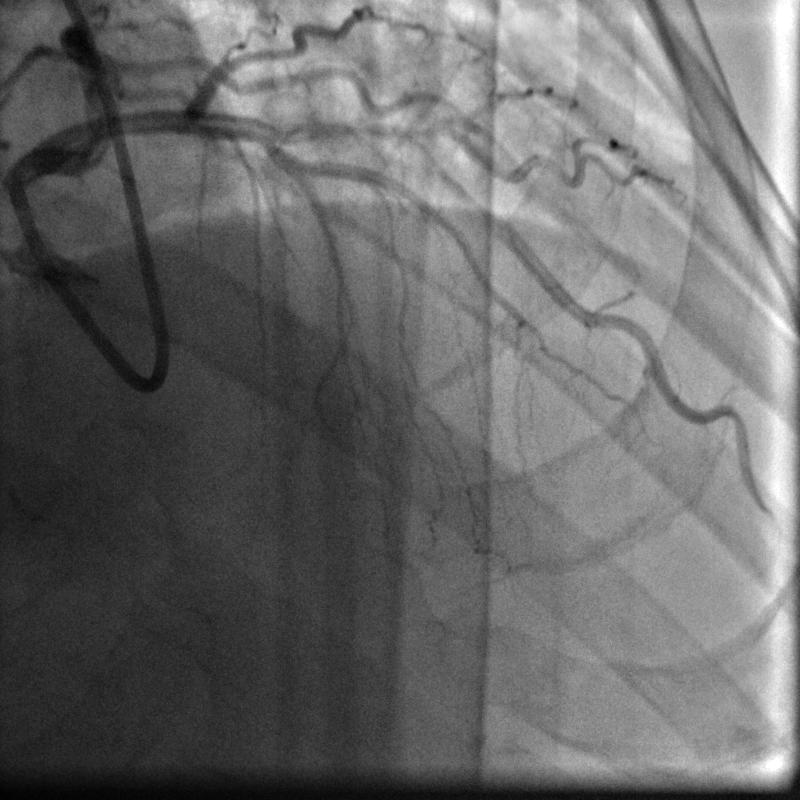Stenosis: (340, 119, 416, 147)
